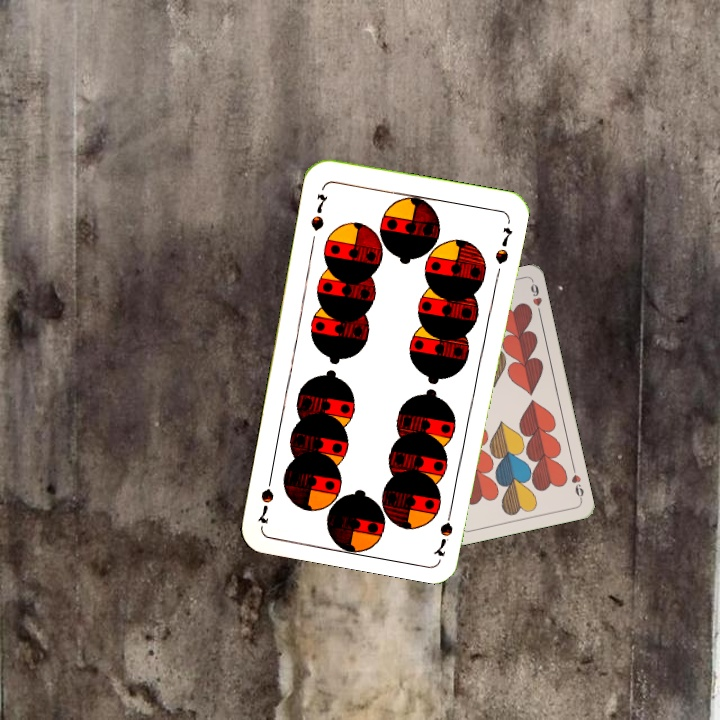H9: (567, 463, 586, 503)
S7: (432, 500, 456, 559), (307, 189, 331, 233)
